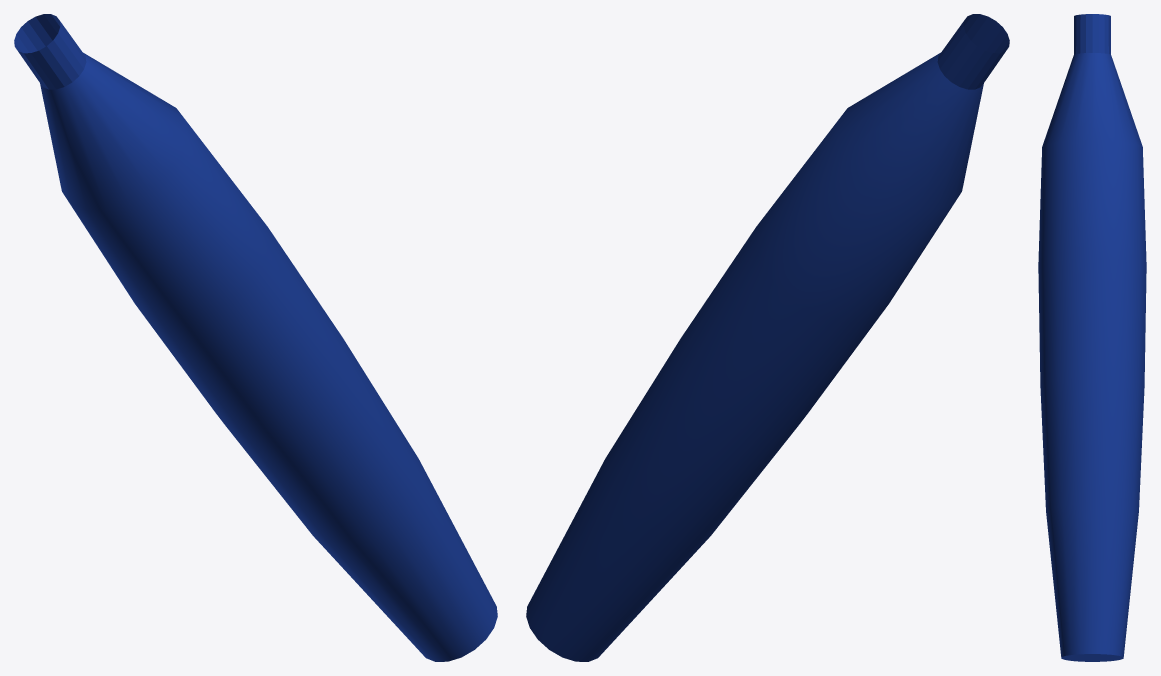
The model's file is botella de plastico.fbx.
3 renders of one model, left to right at view 1: azimuth 30°, elevation 25°; view 2: azimuth 150°, elevation 25°; view 3: azimuth 270°, elevation 25°, orthographic. The views are drawn at different scales.
Visible parts, largest first — view 1: Cylinder001; view 2: Cylinder001; view 3: Cylinder001.
Part boxes in pixels (<box>): Cylinder001: <box>14,14,497,661</box>; Cylinder001: <box>526,14,1009,661</box>; Cylinder001: <box>1038,14,1146,661</box>.
Size of the model in its own units: 36.09 by 53.36 by 10.06.
